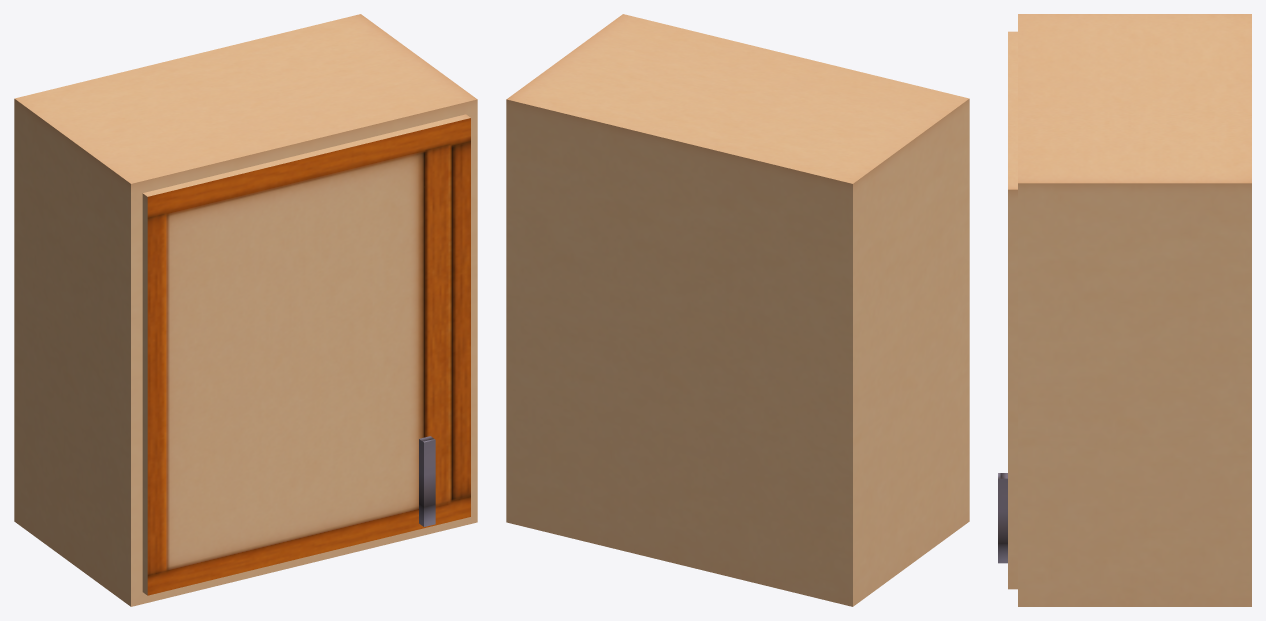
Rendered from Kitchen_Cabinet_Wall.fbx.
The picture shows the model from 3 angles, left to right: view 1: azimuth 30°, elevation 25°; view 2: azimuth 150°, elevation 25°; view 3: azimuth 270°, elevation 25°; orthographic projection.
Visible parts, largest first — view 1: Kitchen_Cabinet_Wall; view 2: Kitchen_Cabinet_Wall; view 3: Kitchen_Cabinet_Wall.
Boxes of the visible parts, bbox=[...] form: Kitchen_Cabinet_Wall: bbox=[14, 14, 477, 606]; Kitchen_Cabinet_Wall: bbox=[506, 14, 969, 606]; Kitchen_Cabinet_Wall: bbox=[998, 14, 1251, 606].
Bounding box in the file's own units: 0.6 × 0.7 × 0.38.
